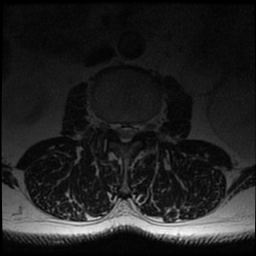CCS_normal: (122, 115, 129, 149)
LFS_normal: (139, 114, 148, 139)
LLS_normal: (130, 114, 138, 143)
RFS_stenosis: (105, 113, 113, 136)
RLS_normal: (113, 115, 122, 143)
